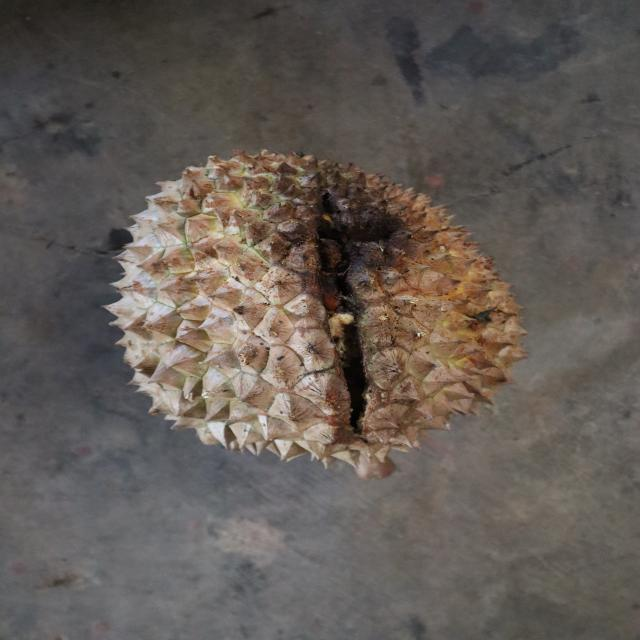defective: (112, 151, 530, 480)
